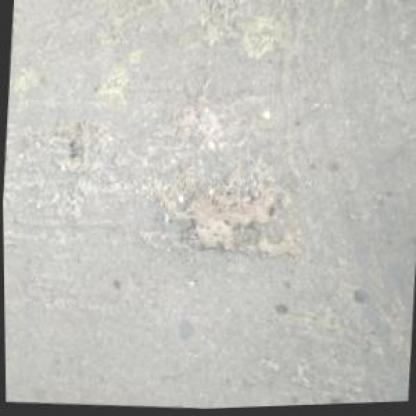pothole: (177, 166, 297, 265), (66, 123, 88, 161)
